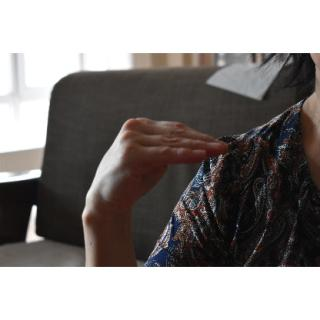HAA: (79, 113, 237, 214)
